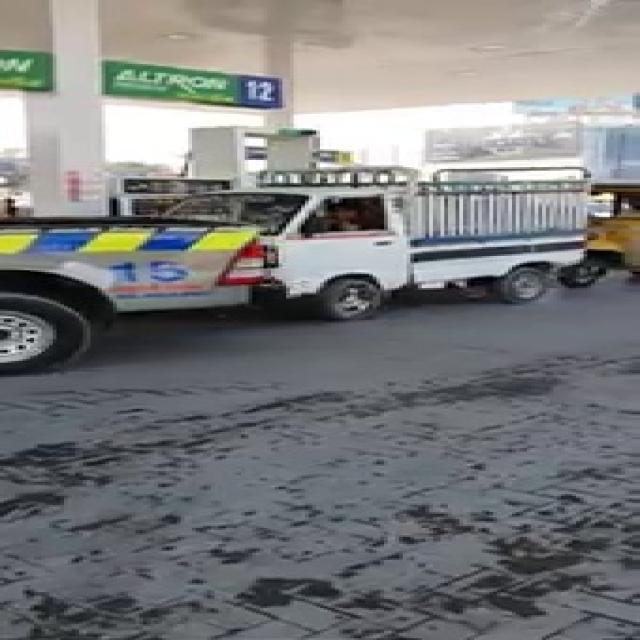police: (0, 194, 352, 378)
